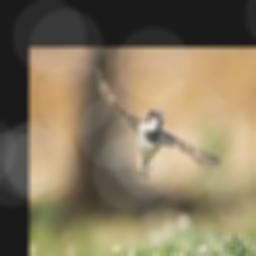Sparrow: (96, 67, 221, 179)
